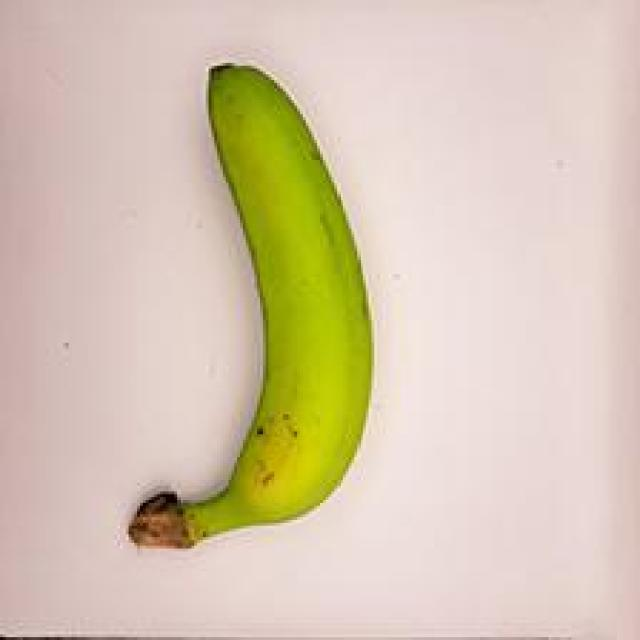Unripe: (115, 36, 402, 561)
